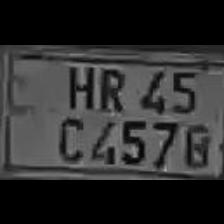4: (132, 62, 168, 112), (86, 112, 116, 162)
5: (165, 63, 199, 111), (115, 114, 147, 162)
6: (179, 117, 215, 169)
7: (146, 116, 176, 168)
C: (53, 110, 85, 160)
H: (59, 58, 95, 108)
R: (94, 62, 126, 110)
